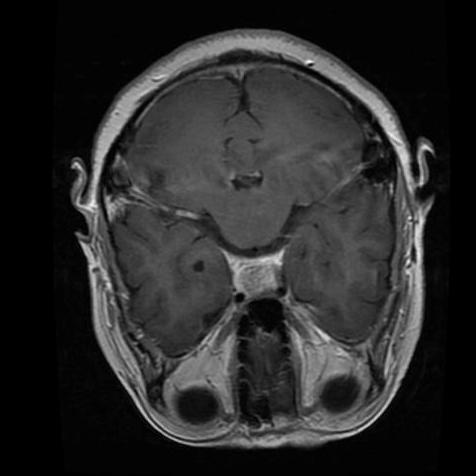Tumour-Pituitary: (232, 254, 289, 309)
